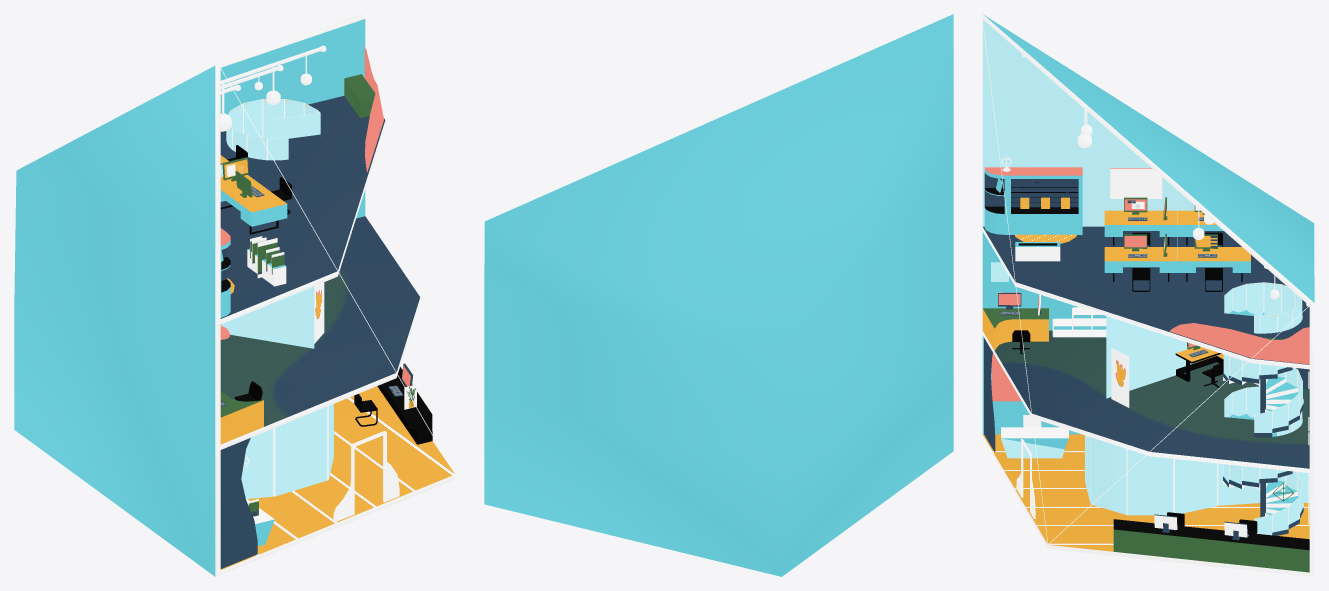
File: 广告线.fbx
The picture shows the model from 3 angles, left to right: view 1: azimuth 30°, elevation 25°; view 2: azimuth 150°, elevation 25°; view 3: azimuth 270°, elevation 25°; orthographic projection. The views are drawn at different scales.
Parts seen in each view (by area): view 1: building, galss, step_glass, wall_4, wall_3, doubletable2, light, long_table, table_2, door, wall, table (+5 smaller); view 2: building; view 3: building, galss, step_glass, shelf, long_table, step, wall_3, doubletable2, wall, doubletable1, table_2, Cube_3 (+11 smaller).
Boxes of the visible parts, x1=… form: building: x1=14, y1=14, x2=455, y2=576; galss: x1=241, y1=404, x2=333, y2=498; step_glass: x1=226, y1=99, x2=320, y2=160; wall_4: x1=220, y1=438, x2=257, y2=568; wall_3: x1=221, y1=286, x2=314, y2=348; doubletable2: x1=220, y1=155, x2=287, y2=234; light: x1=220, y1=45, x2=326, y2=131; long_table: x1=377, y1=367, x2=432, y2=444; table_2: x1=220, y1=391, x2=263, y2=444; door: x1=333, y1=431, x2=399, y2=522; wall: x1=364, y1=46, x2=383, y2=172; table: x1=344, y1=74, x2=375, y2=118; building: x1=484, y1=14, x2=953, y2=576; building: x1=982, y1=14, x2=1314, y2=576; galss: x1=1085, y1=435, x2=1309, y2=515; step_glass: x1=1223, y1=282, x2=1302, y2=535; shelf: x1=984, y1=156, x2=1082, y2=234; long_table: x1=1113, y1=519, x2=1309, y2=572; step: x1=1223, y1=310, x2=1303, y2=535; wall_3: x1=1106, y1=316, x2=1223, y2=398; doubletable2: x1=1104, y1=237, x2=1250, y2=281; wall: x1=1170, y1=323, x2=1309, y2=364; doubletable1: x1=1104, y1=201, x2=1223, y2=245; table_2: x1=982, y1=308, x2=1048, y2=350; Cube_3: x1=1001, y1=427, x2=1068, y2=458.
Size of the model in its own units: 1016 by 1425 by 1016.
